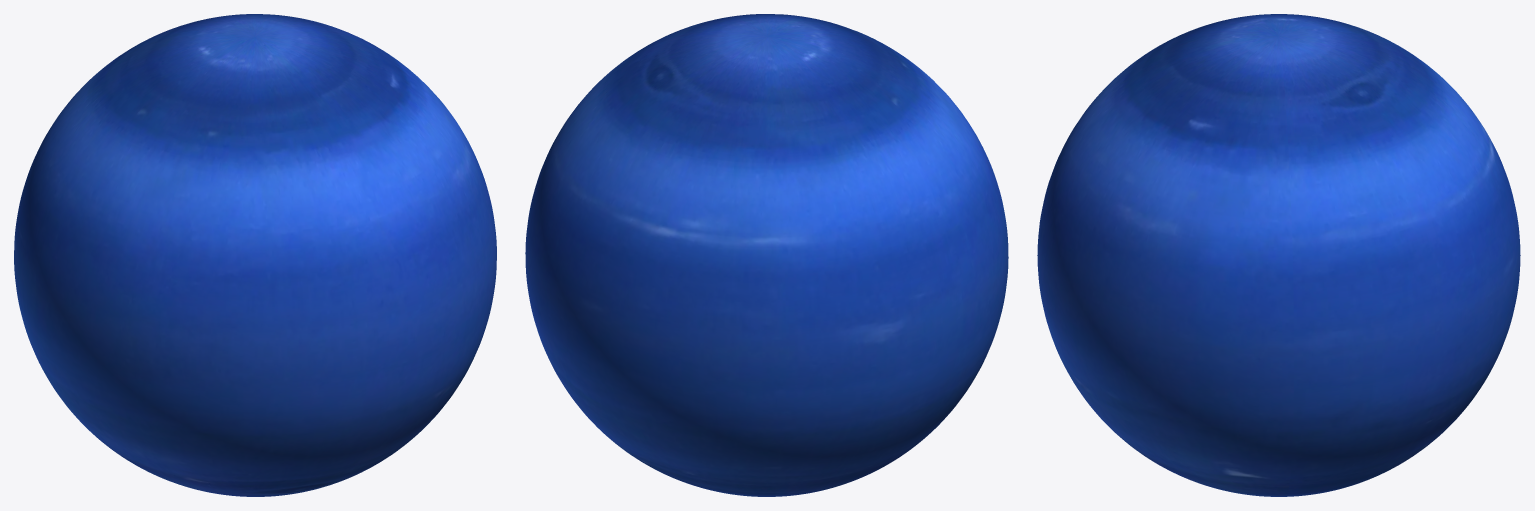
Rendered from neptune.glb.
3 renders of one model, left to right at view 1: azimuth 30°, elevation 25°; view 2: azimuth 150°, elevation 25°; view 3: azimuth 270°, elevation 25°, orthographic.
Visible parts, largest first — view 1: pSphere1.1; view 2: pSphere1.1; view 3: pSphere1.1.
Part boxes in pixels (x1,y1,x2,y2): pSphere1.1: (14,14,496,496); pSphere1.1: (525,14,1008,496); pSphere1.1: (1037,14,1520,496).
Bounding box in the file's own units: 0.2 × 0.2 × 0.2.
1 material, 1 textured.
